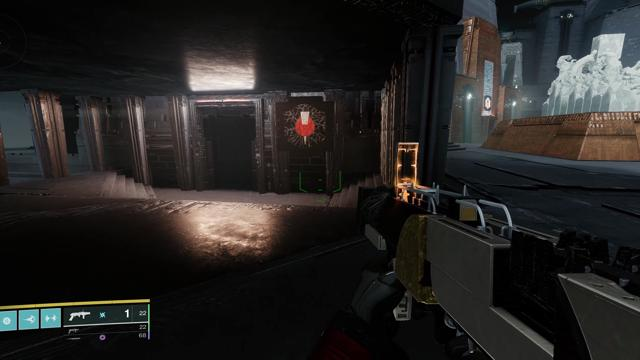kill: (283, 104, 327, 149)
worship: (485, 97, 491, 109)
